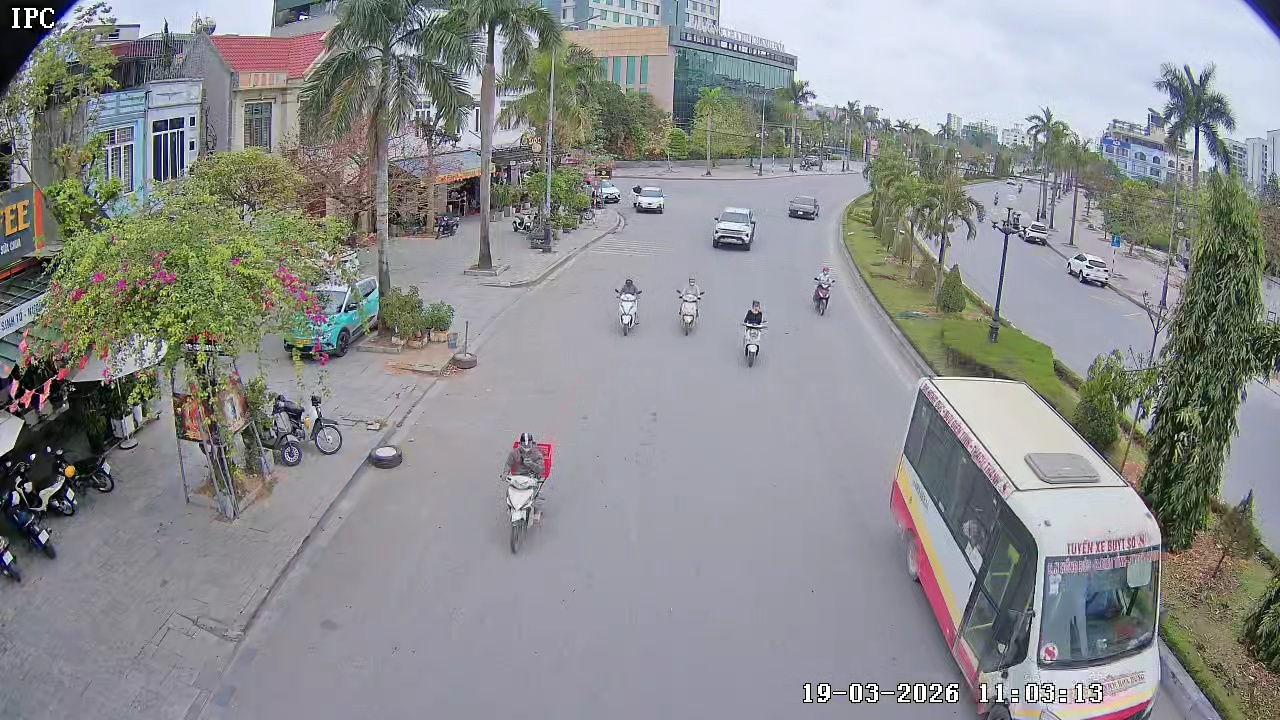bike: (260, 389, 303, 466), (304, 380, 345, 456)
bus: (889, 374, 1172, 719)
car: (710, 205, 758, 250), (631, 184, 666, 214), (787, 192, 820, 219)
motorbike: (496, 431, 553, 555), (739, 297, 768, 369), (674, 273, 706, 336), (614, 274, 644, 336), (809, 265, 836, 318)
